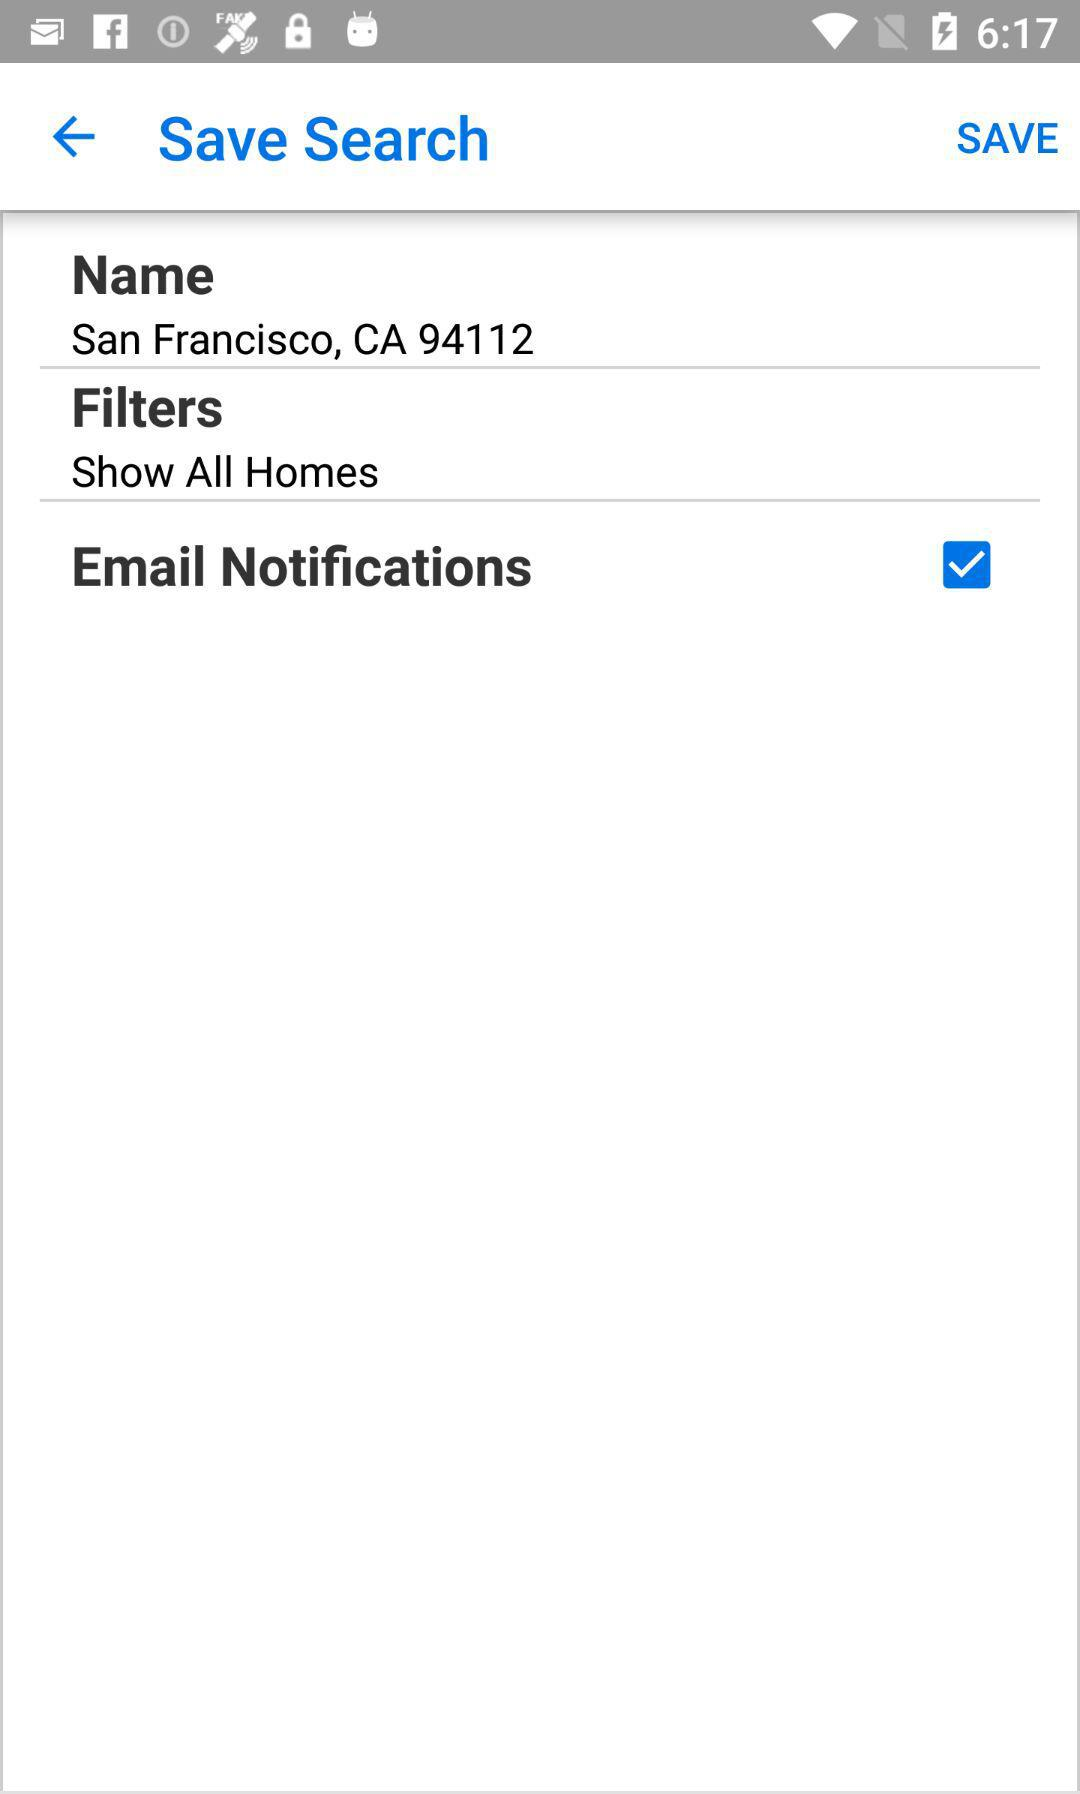CheckedTextView: (74, 539, 992, 589)
Icon: (51, 117, 97, 160)
Text: (74, 545, 532, 589), (73, 323, 536, 361), (159, 114, 489, 163), (73, 455, 379, 490), (74, 384, 223, 431), (73, 255, 214, 297), (958, 122, 1060, 156)
UpperTaskBar: (1, 1, 1080, 64)
